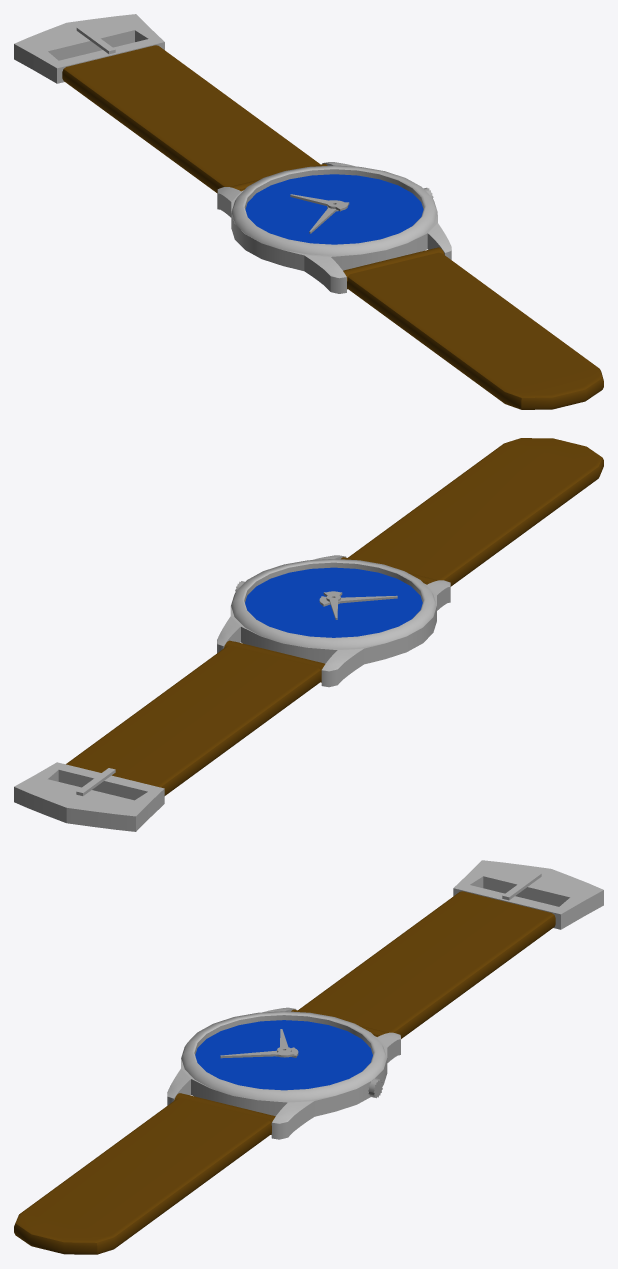
File: Watch.fbx
3 views of the same model, one above another, from view 1: azimuth 30°, elevation 25°; view 2: azimuth 150°, elevation 25°; view 3: azimuth 330°, elevation 25° (orthographic).
Parts seen in each view (by area): view 1: polySurface1, polySurface2, polySurface3, Clasp, polySurface4; view 2: polySurface1, polySurface2, polySurface3, Clasp, polySurface4; view 3: polySurface1, polySurface2, polySurface3, Clasp, polySurface4.
Part boxes in pixels (x1,y1,x2,y2): polySurface1: [343, 247, 603, 409]; polySurface2: [62, 45, 327, 193]; polySurface3: [231, 165, 437, 255]; Clasp: [14, 14, 164, 83]; polySurface4: [217, 162, 451, 293]; polySurface1: [341, 438, 603, 586]; polySurface2: [66, 640, 325, 795]; polySurface3: [231, 559, 436, 648]; Clasp: [14, 762, 164, 831]; polySurface4: [217, 555, 450, 687]; polySurface1: [14, 1093, 275, 1254]; polySurface2: [291, 891, 555, 1038]; polySurface3: [181, 1011, 386, 1101]; Clasp: [453, 860, 603, 929]; polySurface4: [167, 1007, 400, 1139].
Size of the model in its own units: 6.47 by 1.08 by 30.68.
